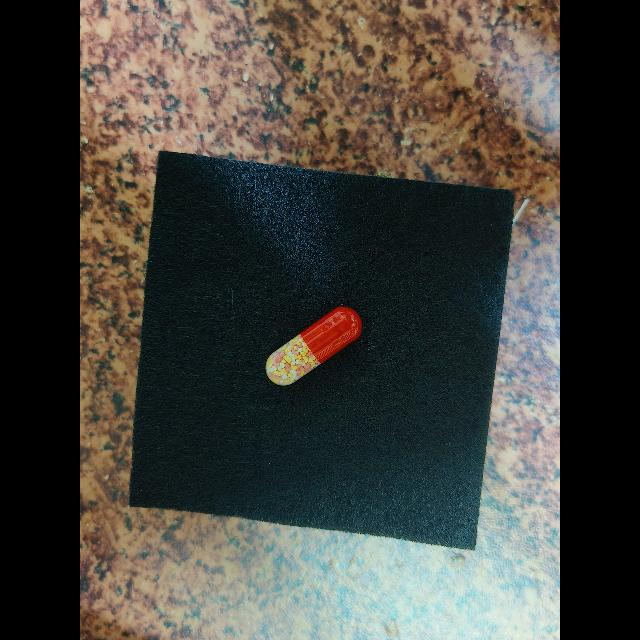Intact Capsule: (266, 306, 362, 386)
